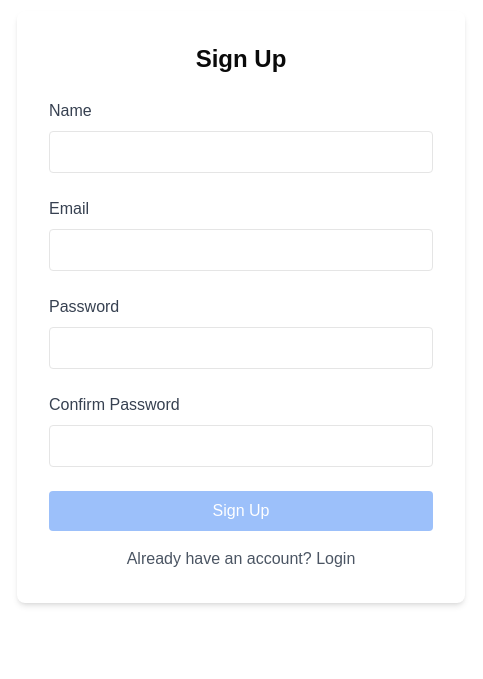
Test: RegisterPage › handles registration error
# Fill in valid form data
Type "Test User" into the field labelled "Name". click: {"x": 241, "y": 152}
box: x1=49 y1=131 x2=433 y2=173
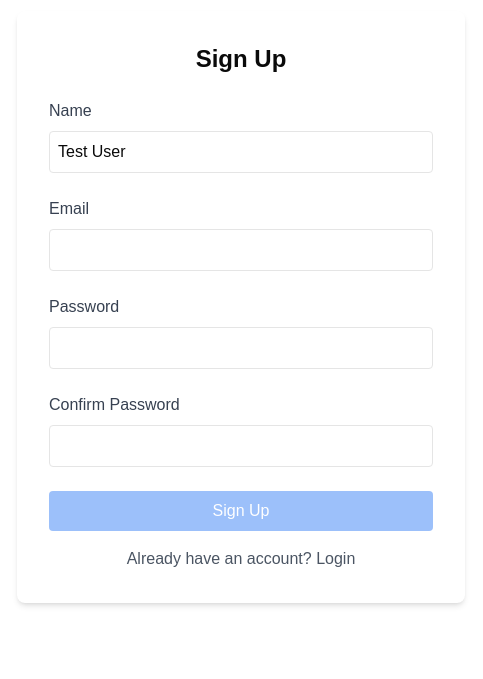
Type "test@example.com" into the field labelled "Email". click: {"x": 241, "y": 250}
box: x1=49 y1=229 x2=433 y2=271
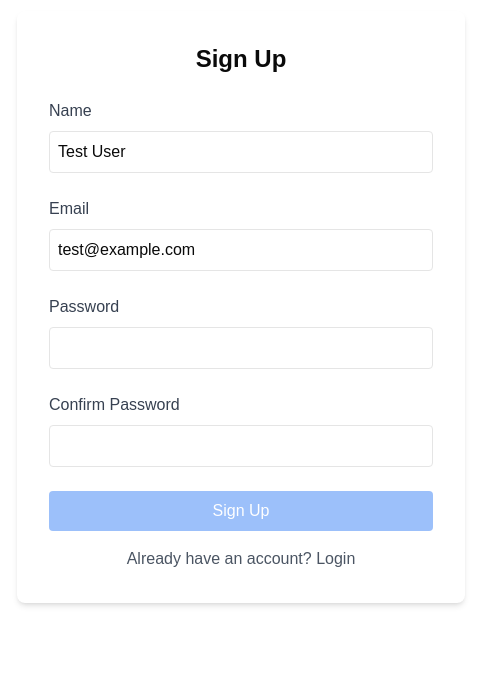
Type "password123" into the password field labelled "Password". click: {"x": 241, "y": 348}
box: x1=49 y1=327 x2=433 y2=369
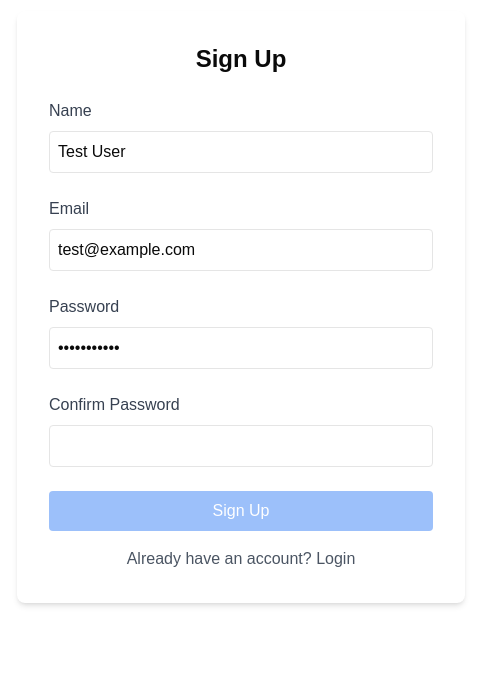
Type "password123" into the password field labelled "Confirm Password". click: {"x": 241, "y": 446}
box: x1=49 y1=425 x2=433 y2=467
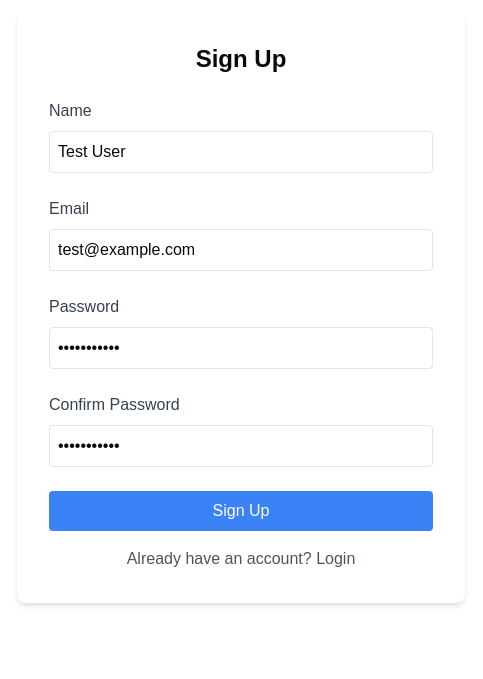
Click the button "Sign Up". click: {"x": 241, "y": 511}
box: x1=49 y1=491 x2=433 y2=531
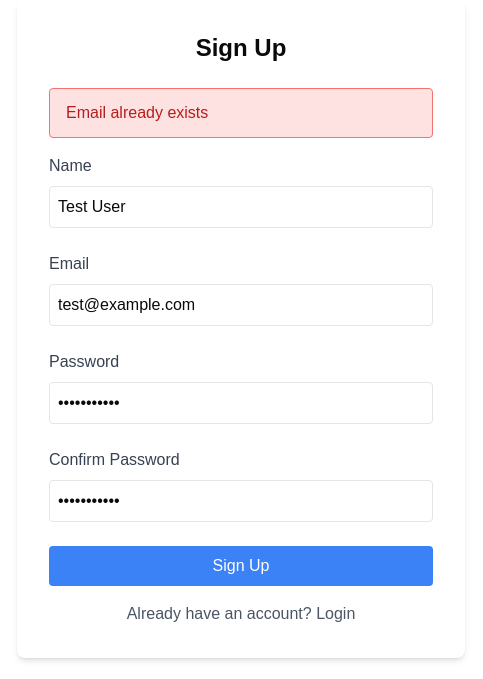
Result: the text "Email already exists" is shown at x1=49 y1=88 x2=433 y2=138
